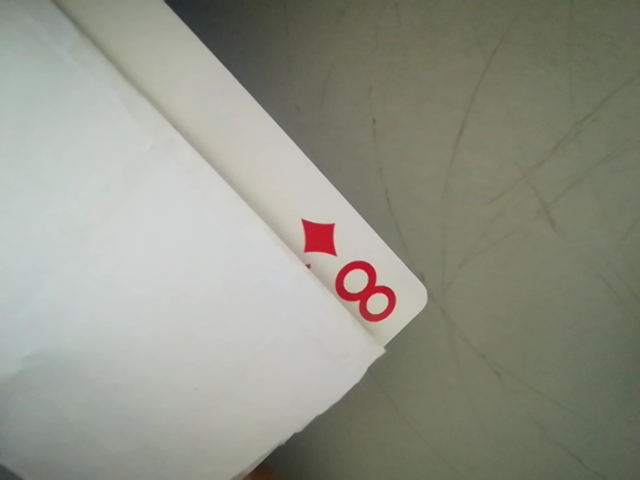fk 8: (292, 208, 417, 336)
